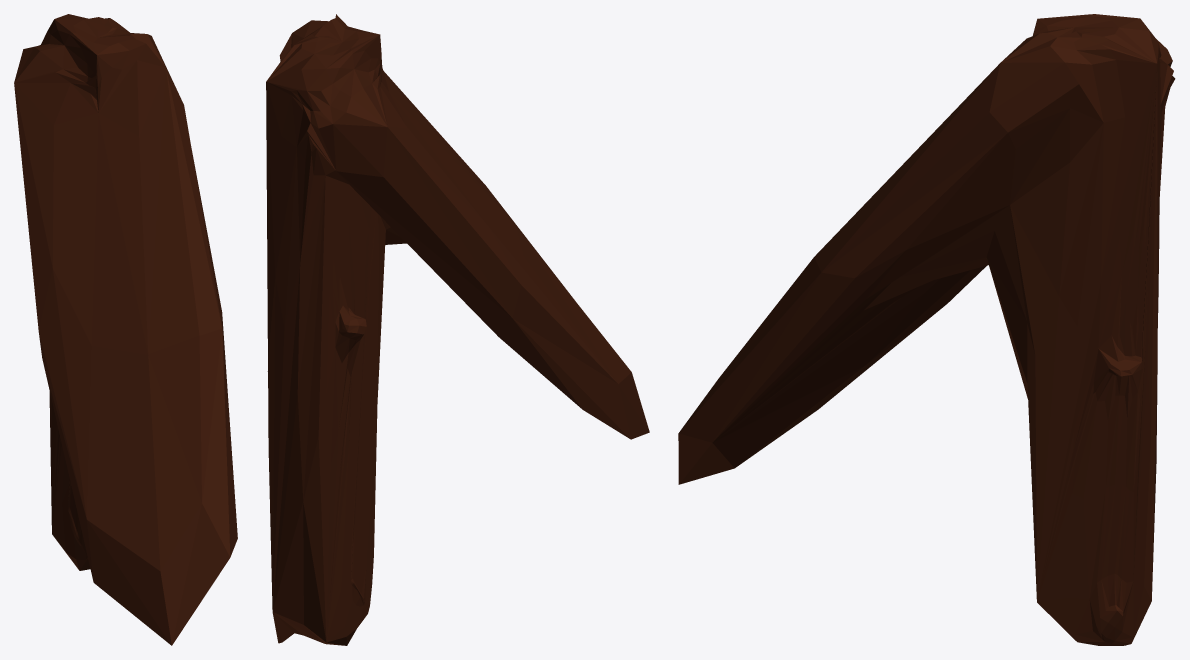
3 renders of one model, left to right at view 1: azimuth 30°, elevation 25°; view 2: azimuth 150°, elevation 25°; view 3: azimuth 270°, elevation 25°, orthographic. The views are drawn at different scales.
Visible parts, largest first — view 1: 547_Cube.2207; view 2: 547_Cube.2207; view 3: 547_Cube.2207.
Boxes of the visible parts, x1,y1,x2,y2 form: 547_Cube.2207: [14, 14, 237, 645]; 547_Cube.2207: [266, 14, 649, 645]; 547_Cube.2207: [678, 14, 1175, 645].
Size of the model in its own units: 4.27 by 11.72 by 8.61.
